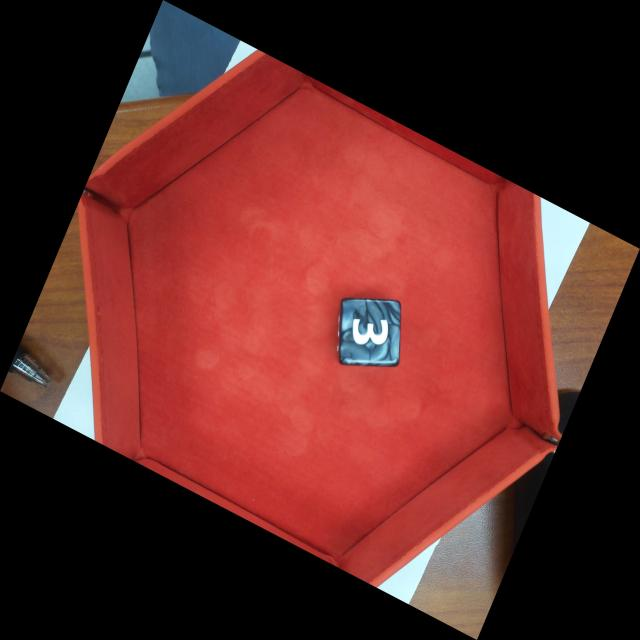dice: (342, 300, 400, 365)
